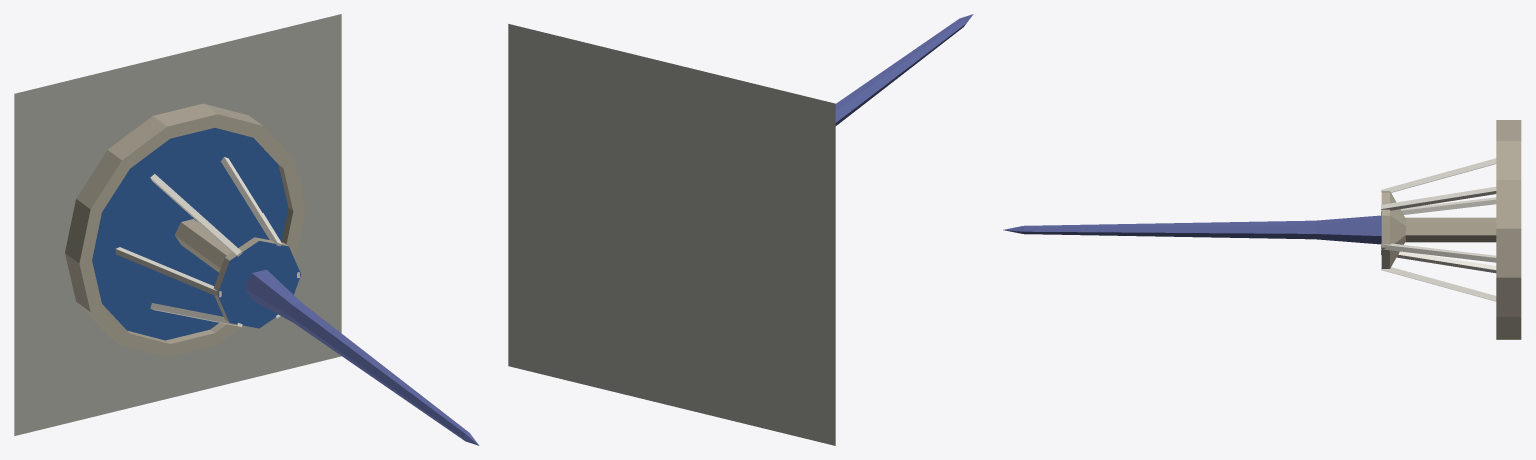
File: construction_2.glb
3 views of the same model, side by side, from view 1: azimuth 30°, elevation 25°; view 2: azimuth 150°, elevation 25°; view 3: azimuth 270°, elevation 25° (orthographic). The views are drawn at different scales.
Parts seen in each view (by area): view 1: construction_2; view 2: construction_2; view 3: construction_2.
Part boxes in pixels (x1,y1,x2,y2): construction_2: (14, 14, 479, 445); construction_2: (508, 14, 973, 445); construction_2: (1003, 120, 1521, 339).
Size of the model in its own units: 15.6 by 15.6 by 24.92.
